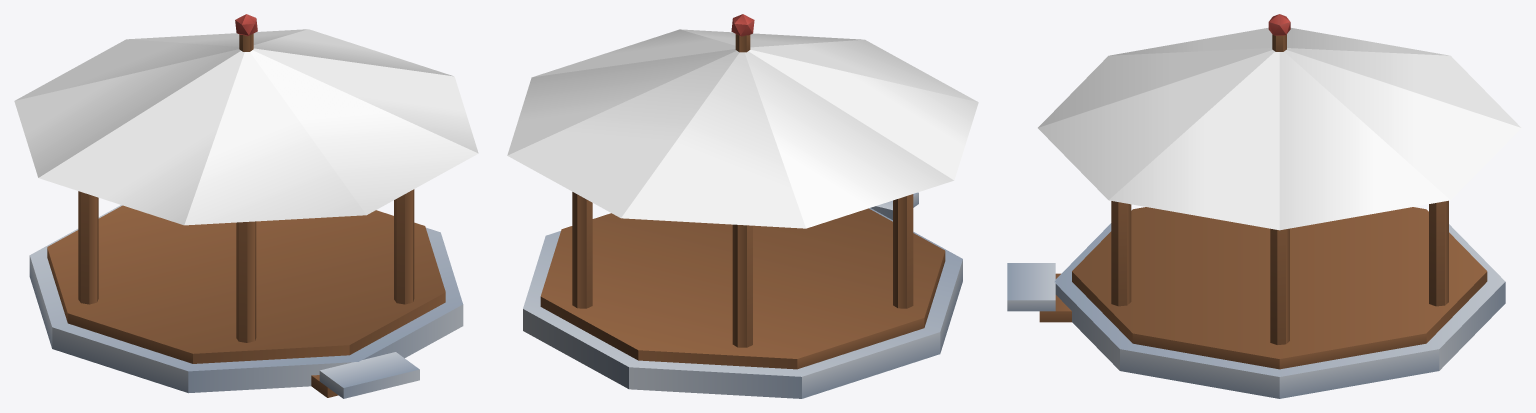
The model's file is hub.fbx.
The picture shows the model from 3 angles, left to right: view 1: azimuth 30°, elevation 25°; view 2: azimuth 150°, elevation 25°; view 3: azimuth 270°, elevation 25°; orthographic projection.
Visible parts, largest first — view 1: hub; view 2: hub; view 3: hub.
Part boxes in pixels (x1=…): hub: x1=14, y1=14, x2=478, y2=398; hub: x1=507, y1=14, x2=978, y2=398; hub: x1=1007, y1=14, x2=1521, y2=398.
Size of the model in its own units: 1200 by 792 by 1275.
